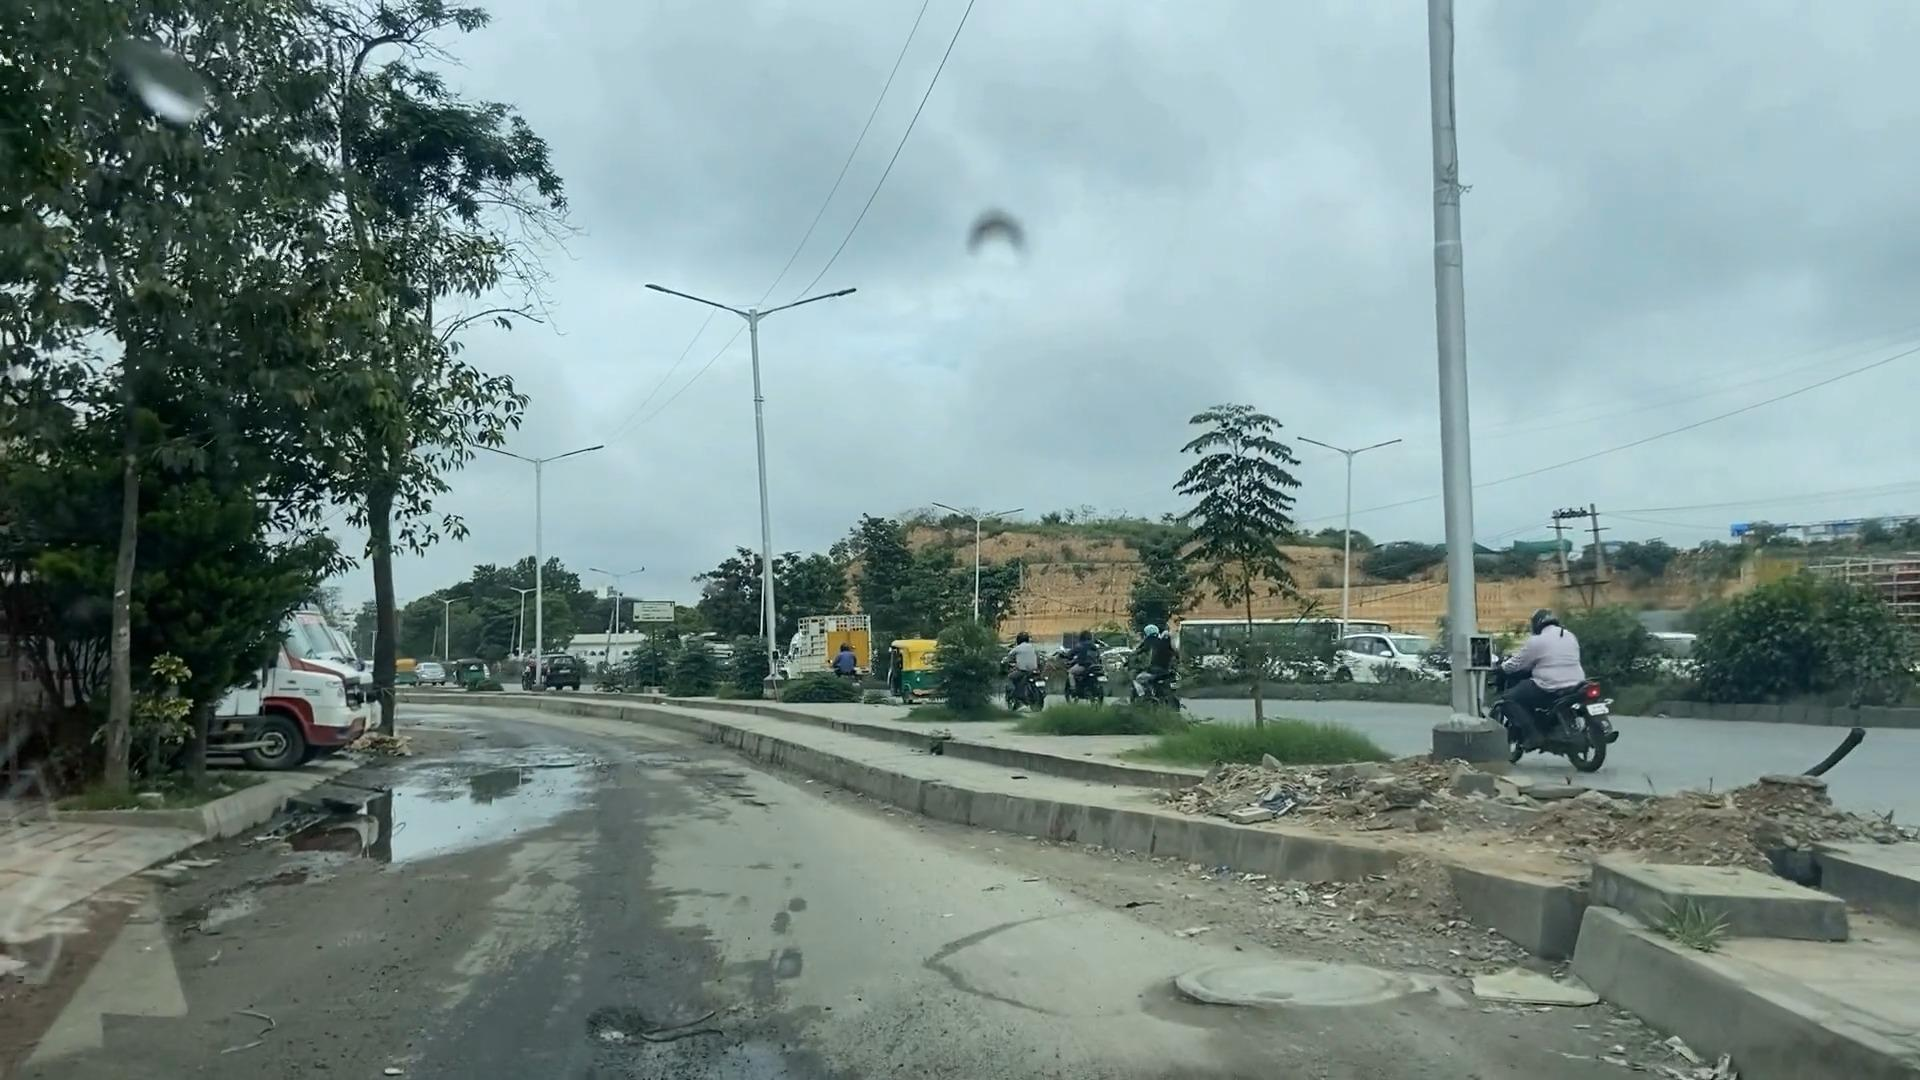RoadDamages: (1117, 927, 1438, 1042), (577, 993, 842, 1080)
